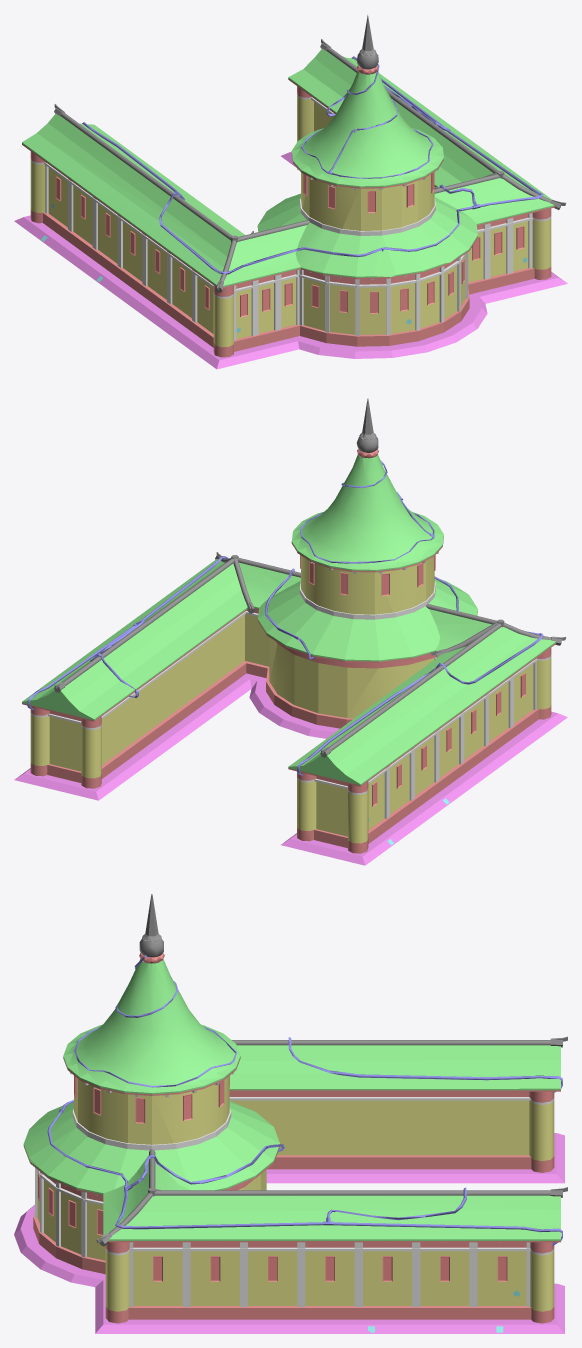
File: SM_ENV_LKNVLD_Building_B_Lod3.gltf
3 renders of one model, top to bottom at view 1: azimuth 30°, elevation 25°; view 2: azimuth 150°, elevation 25°; view 3: azimuth 270°, elevation 25°, orthographic. The views are drawn at different scales.
Visible parts, largest first — view 1: SM_ENV_LKNVLD_Building_B_Lod3; view 2: SM_ENV_LKNVLD_Building_B_Lod3; view 3: SM_ENV_LKNVLD_Building_B_Lod3.
Part boxes in pixels (x1,y1,x2,y2): SM_ENV_LKNVLD_Building_B_Lod3: (14, 15, 567, 369); SM_ENV_LKNVLD_Building_B_Lod3: (14, 398, 567, 865); SM_ENV_LKNVLD_Building_B_Lod3: (14, 894, 567, 1333).
Size of the model in its own units: 29 by 23.2 by 34.21.
